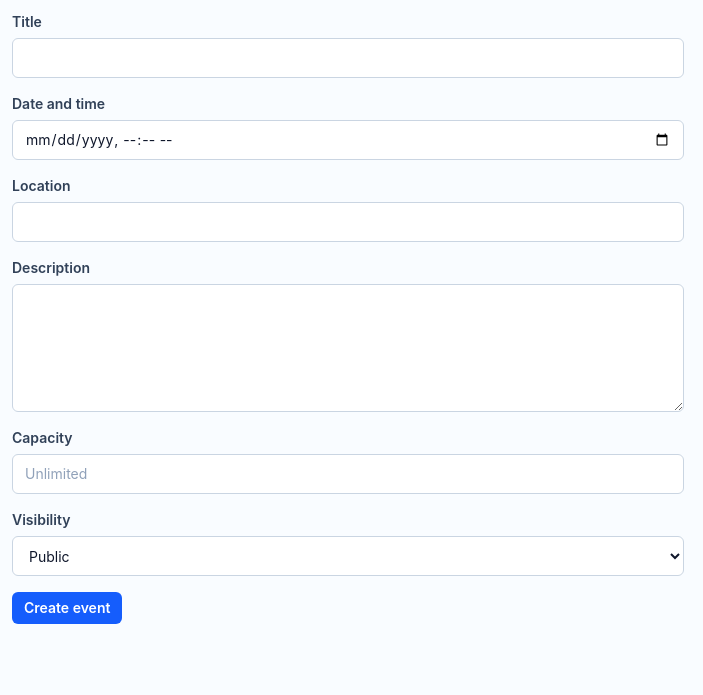
Test case: EventForm › shows the validation alert when capacity is 0
Type "React Meetup" into the field labelled "Title".
click(348, 58); type("React Meetup")  # box [12,38,684,78]
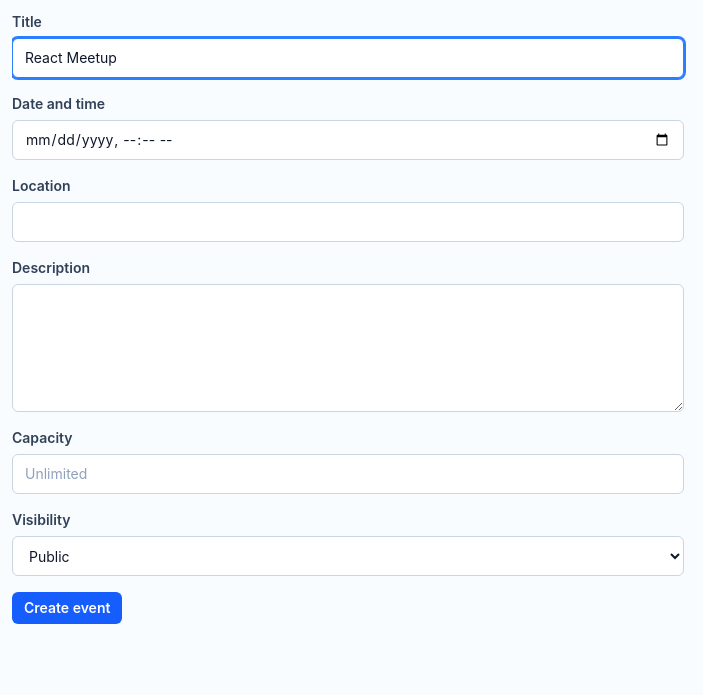
Type "2026-06-15T19:30" into the field labelled "Date and time".
click(348, 140); type("2026-06-15T19:30")  # box [12,120,684,160]
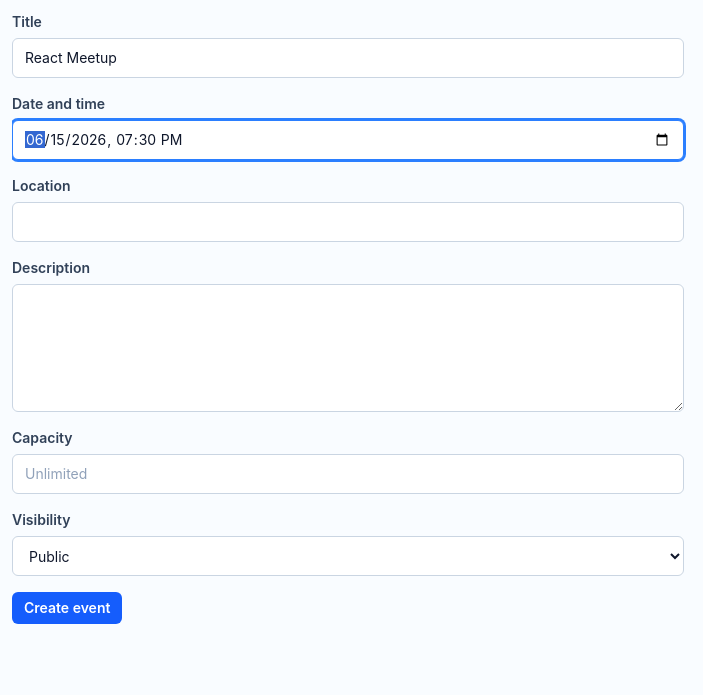
Type "0" into the number field labelled "Capacity".
click(348, 474); type("0")  # box [12,454,684,494]
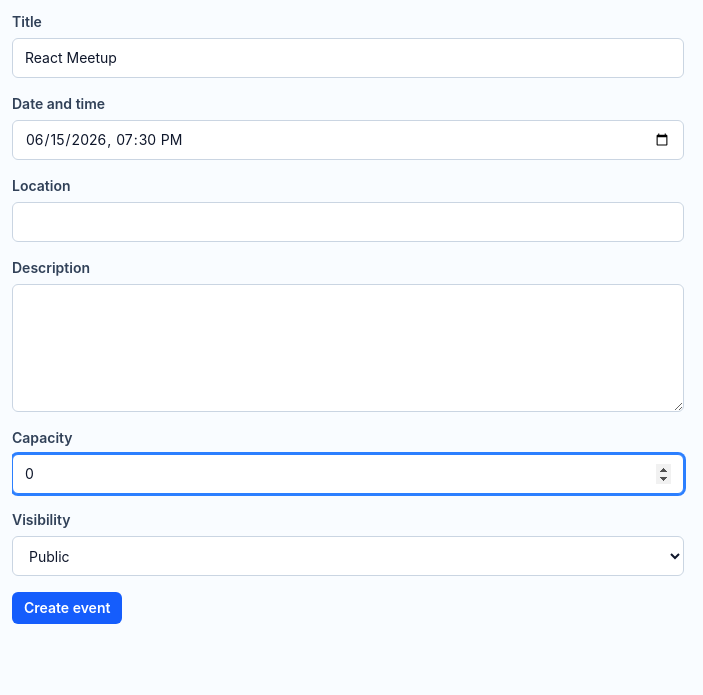
Submit the form "Create event"
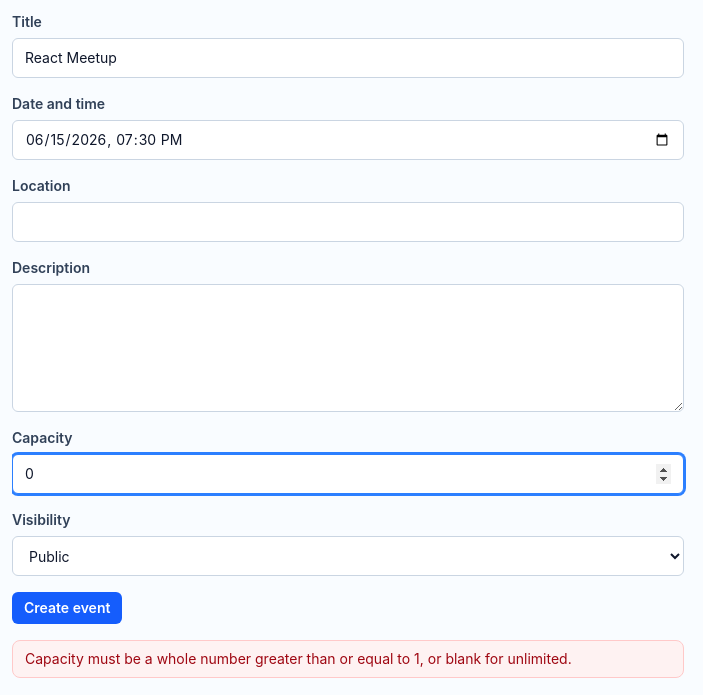
Check: the message shows "Capacity must be a whole number greater than or equal to 1, or blank for unlimited.", box [25,650,572,667]
